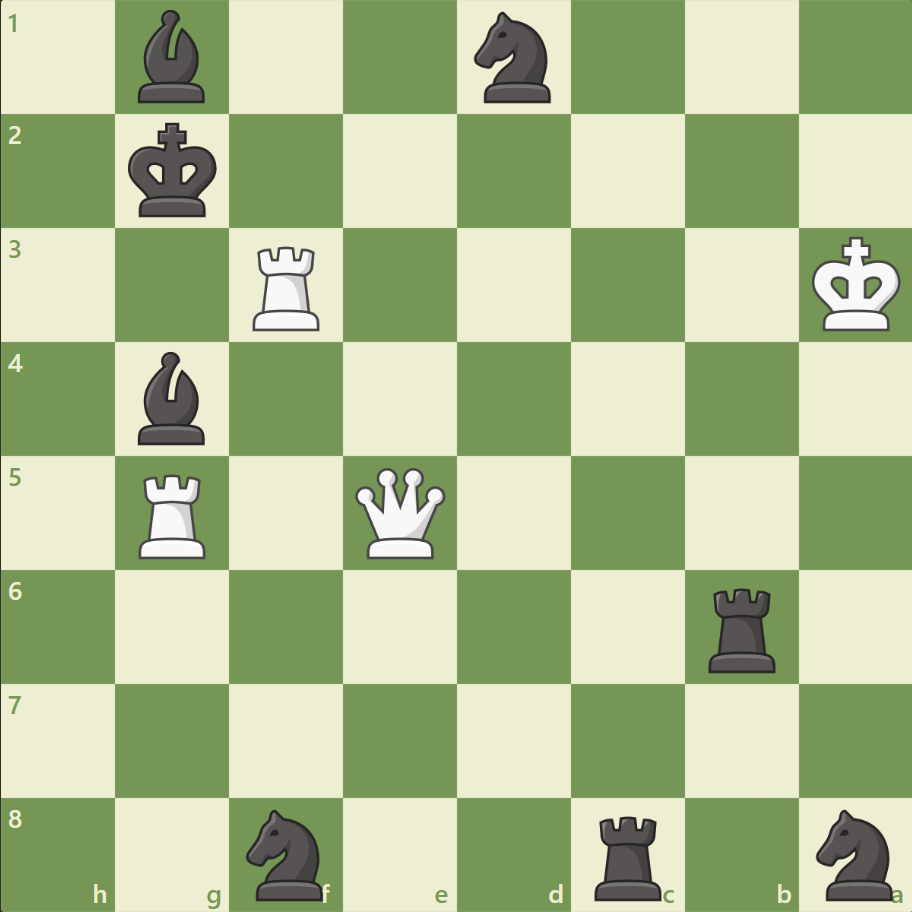K: (806, 231, 906, 339)
Q: (351, 463, 450, 562)
R: (246, 239, 329, 336), (133, 466, 215, 563)
b: (131, 6, 215, 109), (131, 347, 215, 449)
k: (124, 117, 224, 225)
n: (465, 7, 562, 110), (806, 802, 903, 904), (238, 802, 335, 904)
r: (587, 806, 670, 904), (700, 579, 783, 676)
